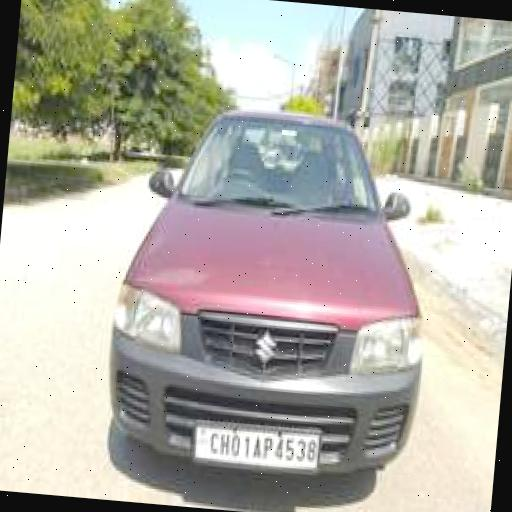license_plate`: (191, 422, 318, 468)
